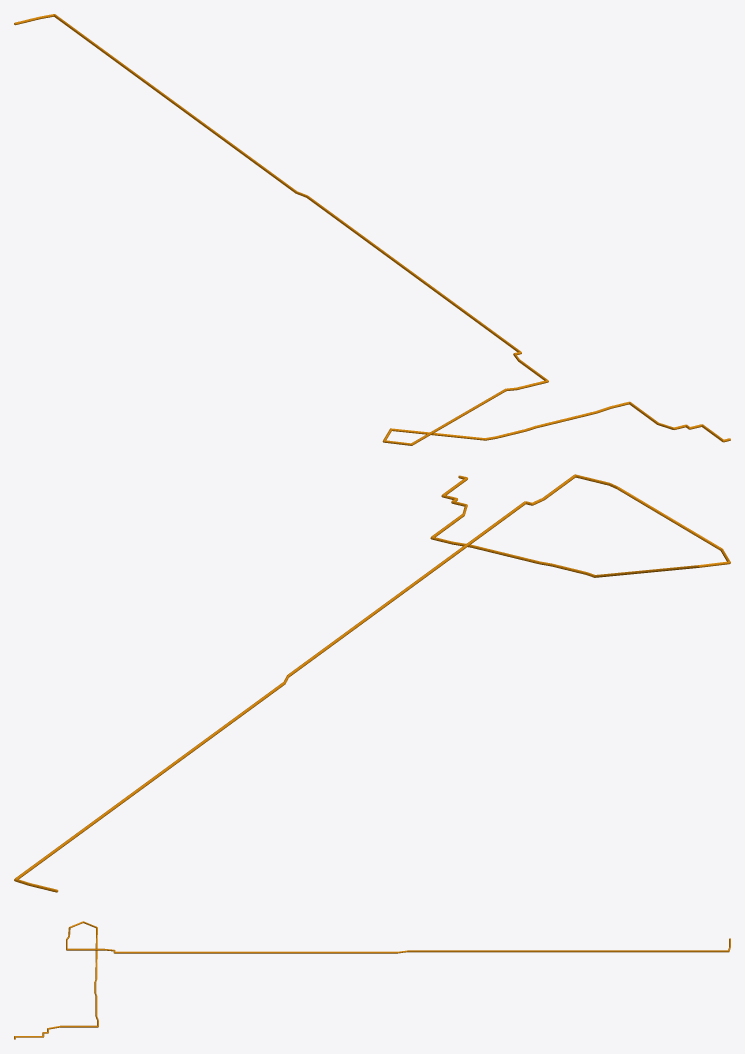
3 views of the same model, one above another, from view 1: azimuth 30°, elevation 25°; view 2: azimuth 150°, elevation 25°; view 3: azimuth 270°, elevation 25° (orthographic). The views are drawn at different scales.
Bounding box in the file's own units: 2406 × 520 × 7587.
